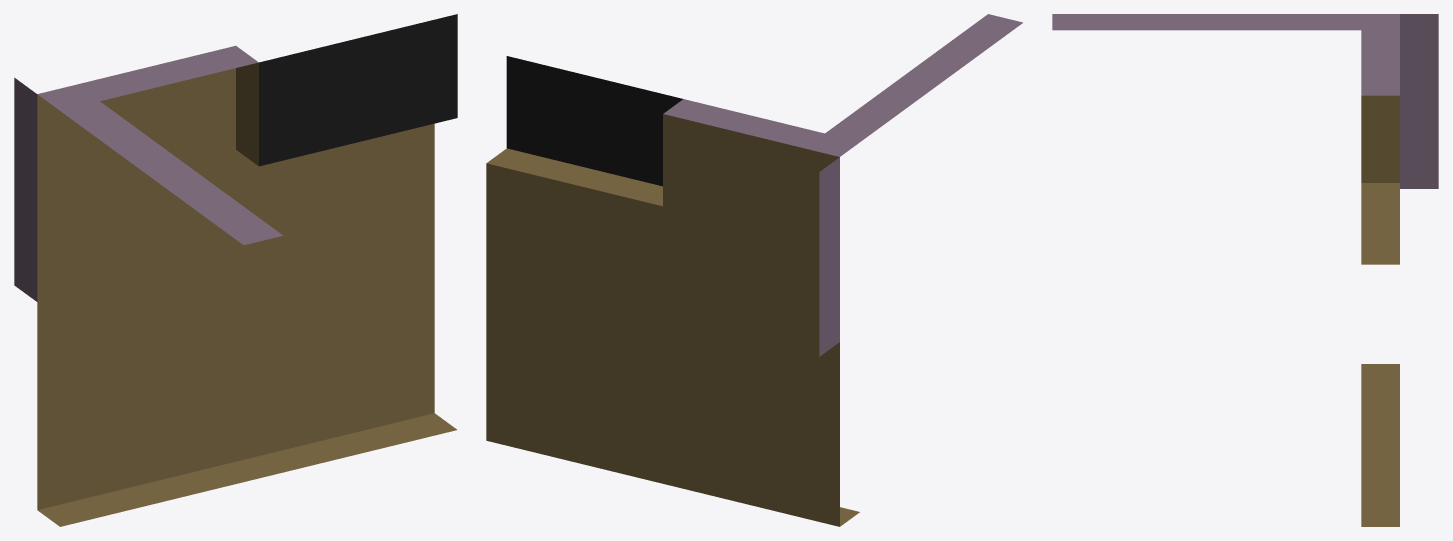
File: Straight_Edge_Wall_Roof_Right.obj
3 renders of one model, left to right at view 1: azimuth 30°, elevation 25°; view 2: azimuth 150°, elevation 25°; view 3: azimuth 270°, elevation 25°, orthographic. The views are drawn at different scales.
Parts seen in each view (by area): view 1: Straight_Edge_Wall_Roof_Right; view 2: Straight_Edge_Wall_Roof_Right; view 3: Straight_Edge_Wall_Roof_Right.
Part boxes in pixels (x1=…): Straight_Edge_Wall_Roof_Right: x1=14, y1=14, x2=457, y2=526; Straight_Edge_Wall_Roof_Right: x1=486, y1=14, x2=1022, y2=526; Straight_Edge_Wall_Roof_Right: x1=1052, y1=14, x2=1438, y2=526.
Size of the model in its own units: 1 by 1 by 1.
